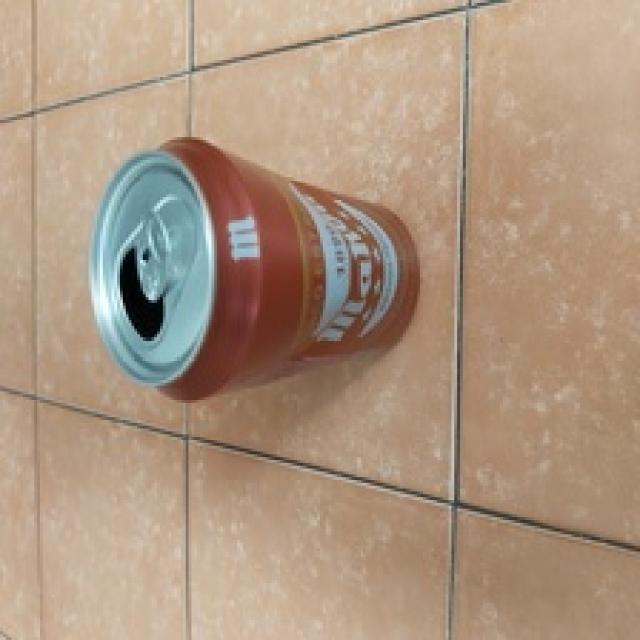recyclable: (87, 137, 418, 406)
